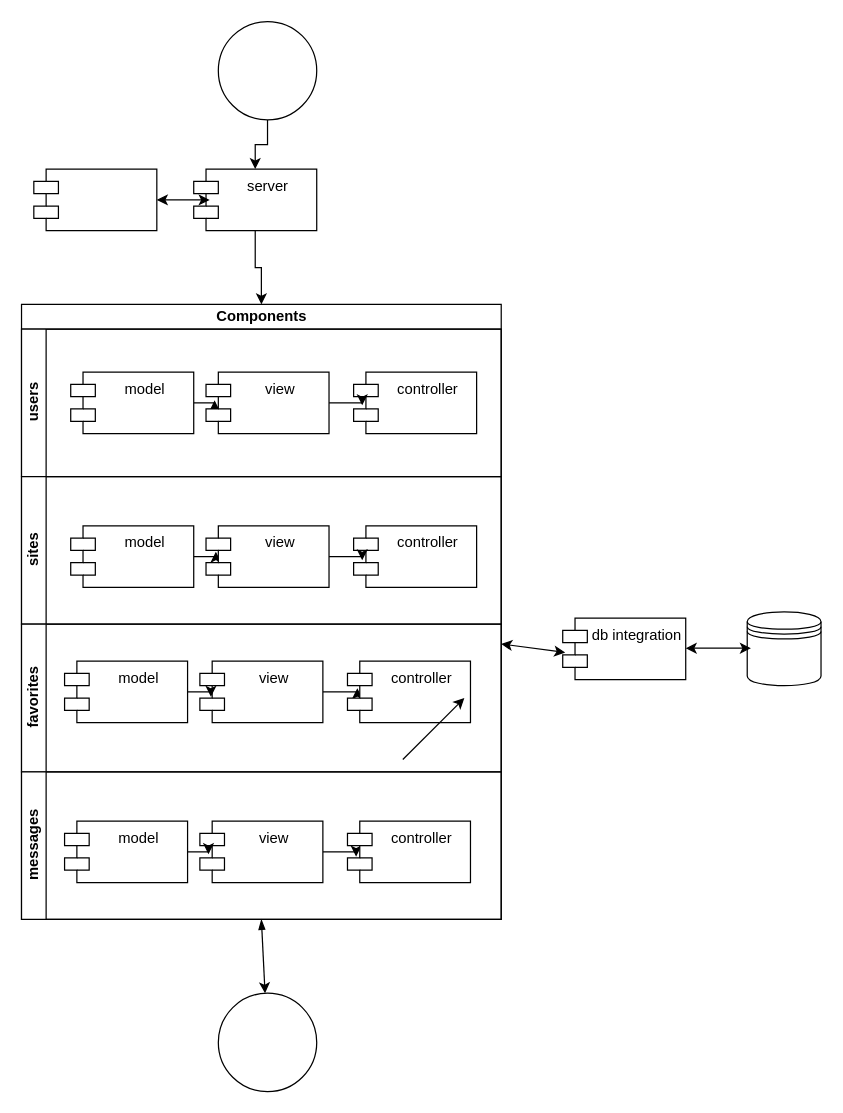
Image size: 843x1113. Some labels were removed from this diagram. Here are the shapes that lost their labels. From the top down, the centre of each, then its label:
(x=267, y=70): Inicio
(x=95, y=199): config(global)
(x=783, y=648): db
(x=267, y=1042): API
